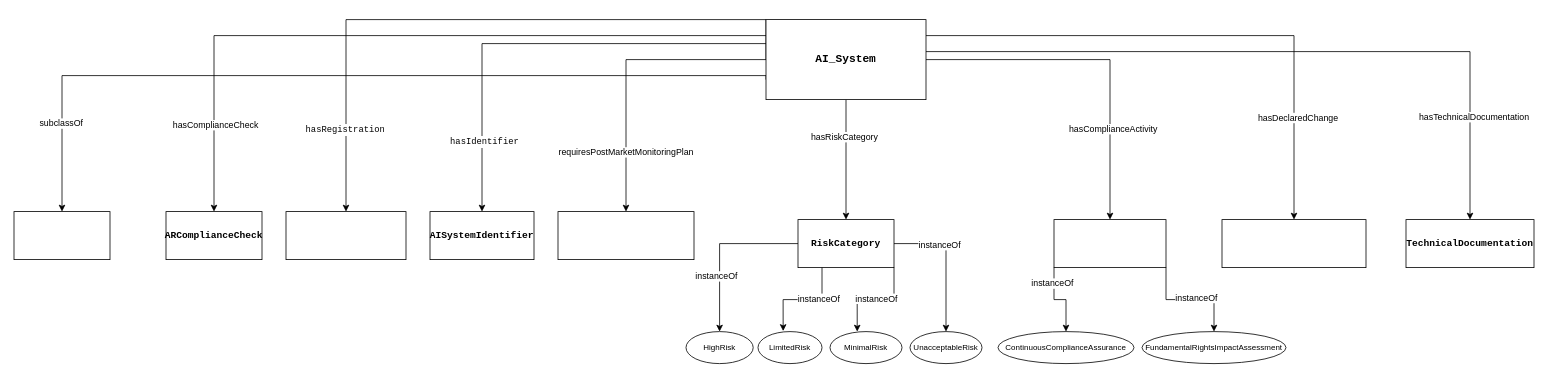
This 1548x378 diagram has some shape labels left out. The shapes that lost their labels are listed below. From the top down, each one's centre as x and y in pixels, then its label:
At [61,235]: "HighRiskAI".
At [345,235]: "AIRegistrationProcess".
At [625,235]: "PostMarketMonitoringPlan".
At [1109,243]: "ComplianceActivity".
At [1293,243]: "AISystemChangeDeclaration".
